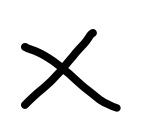mult: (20, 29, 120, 113)
